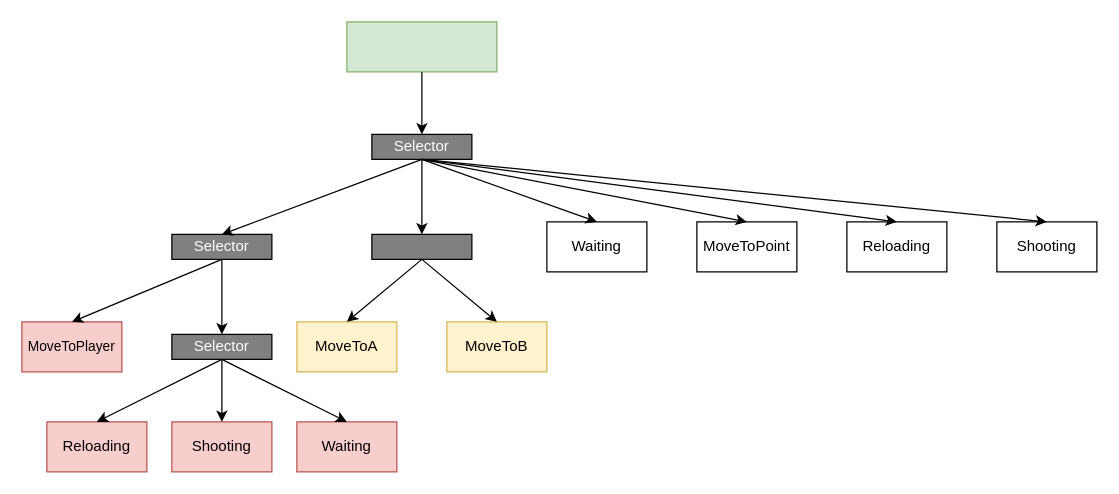
Some shapes in this 1119 by 494 pixel diagram are drawn without their labels. Each missing label, with the box of its shape:
Sequence: (371, 233, 472, 259)
Soldier: (346, 21, 497, 72)
